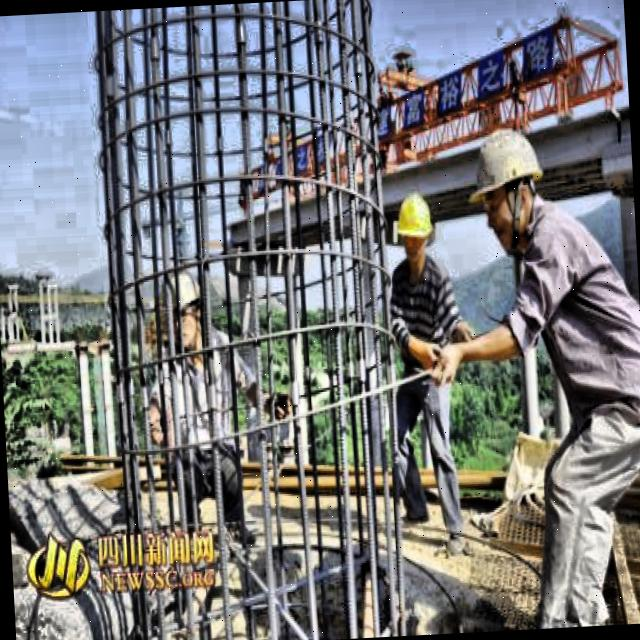helmet: (468, 122, 552, 252), (158, 267, 210, 358), (390, 188, 439, 271)
